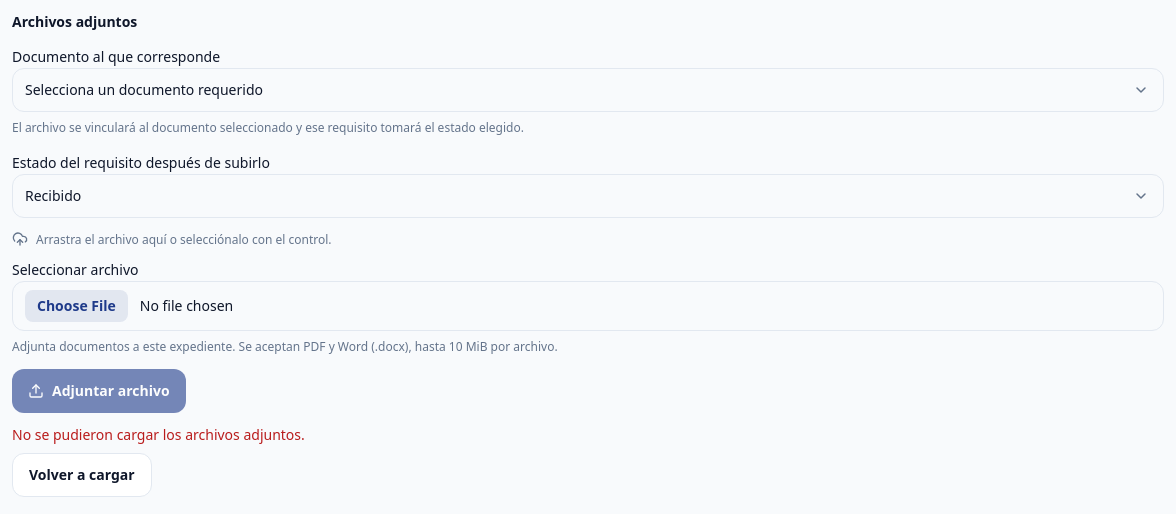
it: TitulationAttachments › offers a retry when loading the attachments fails
Click the button "Volver a cargar": point(82, 474) [12,452,152,496]
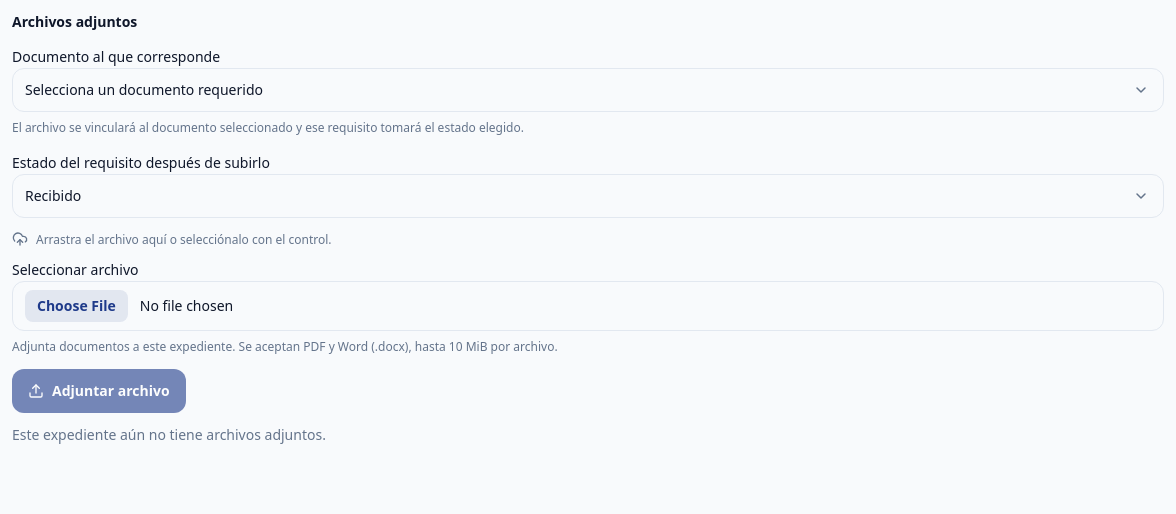
Now the text "Este expediente aún no tiene archivos adjuntos." is shown, box [12,424,326,444]
